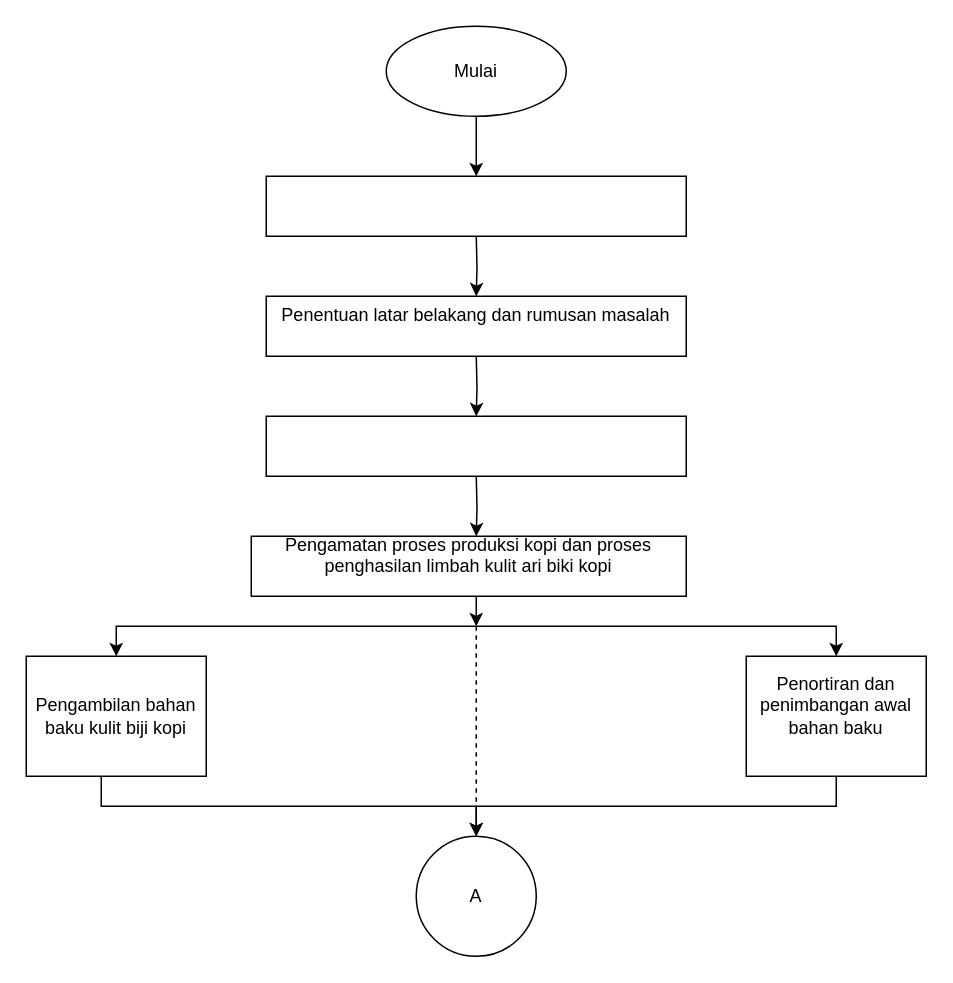
Some shapes in this 953 by 983 pixel diagram are drawn without their labels. Each missing label, with the box of its shape:
Studi Pendahuluan: (265, 175, 686, 236)
Studi Pustaka: (265, 415, 686, 476)
